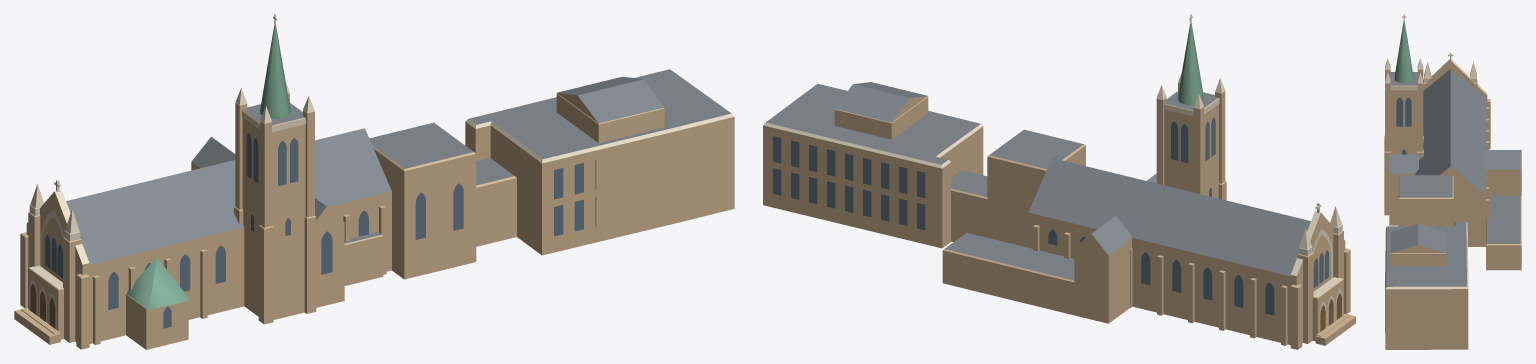
The model's file is cle-st-john-cathedral.glb.
The picture shows the model from 3 angles, left to right: view 1: azimuth 30°, elevation 25°; view 2: azimuth 150°, elevation 25°; view 3: azimuth 270°, elevation 25°; orthographic projection. The views are drawn at different scales.
Parts seen in each view (by area): view 1: Cathedral of St. John the Evangelist; view 2: Cathedral of St. John the Evangelist; view 3: Cathedral of St. John the Evangelist.
Boxes of the visible parts, x1,y1,x2,y2 form: Cathedral of St. John the Evangelist: (14, 14, 734, 349); Cathedral of St. John the Evangelist: (763, 14, 1355, 349); Cathedral of St. John the Evangelist: (1384, 14, 1521, 349).
Bounding box in the file's own units: 139 × 59.5 × 38.45.
